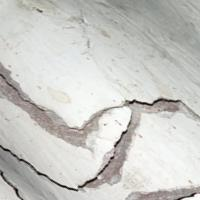crack: (1, 54, 199, 199)
